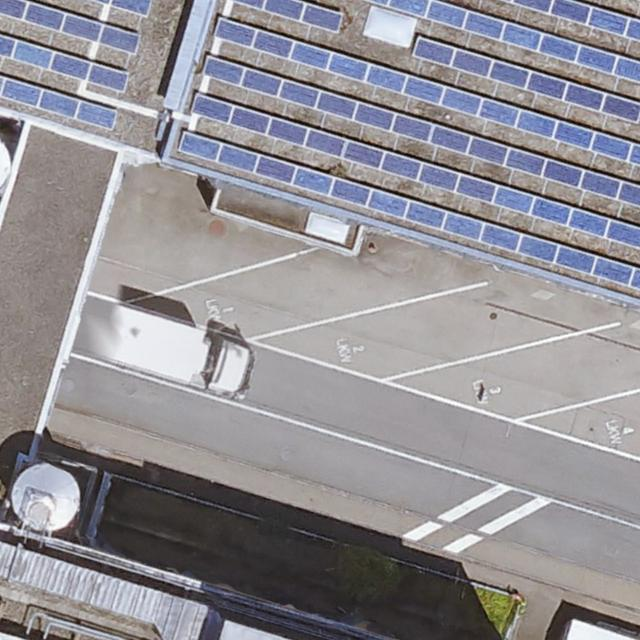tree: (326, 551, 403, 604)
